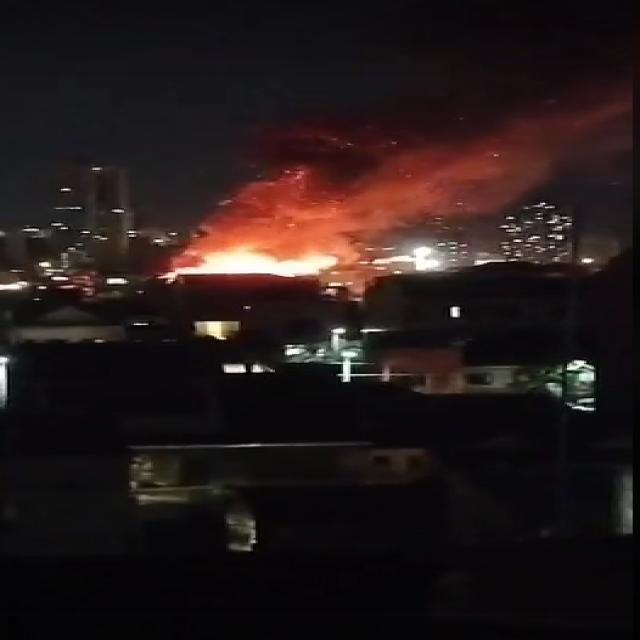Fire: (200, 250, 349, 282)
Smoke: (365, 74, 640, 206), (246, 144, 390, 265)
